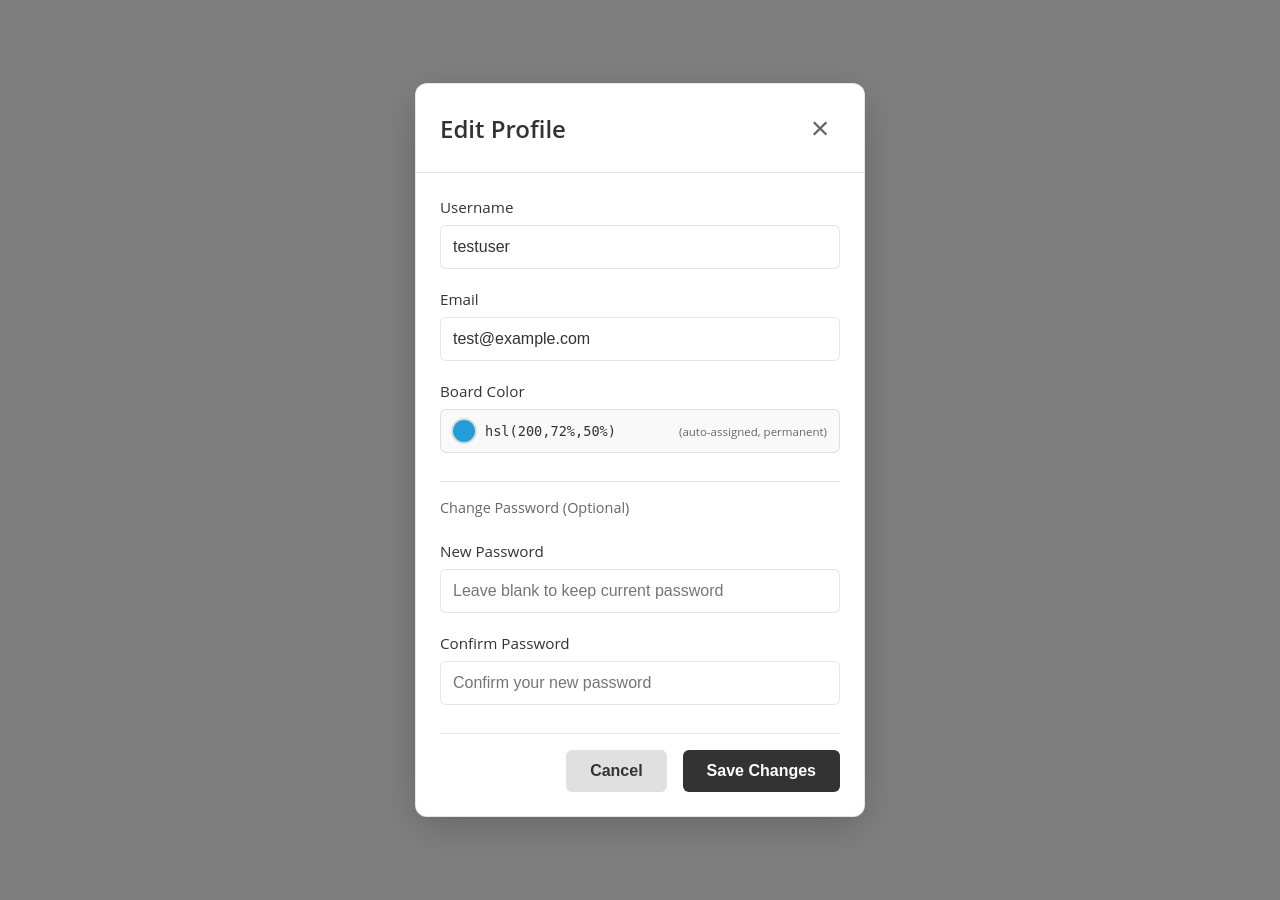
Test case: EditProfileModal › validates email format
Replace the text in the field labelled "Email" with "invalidemail" at (640, 339), box 440,317 -> 840,361
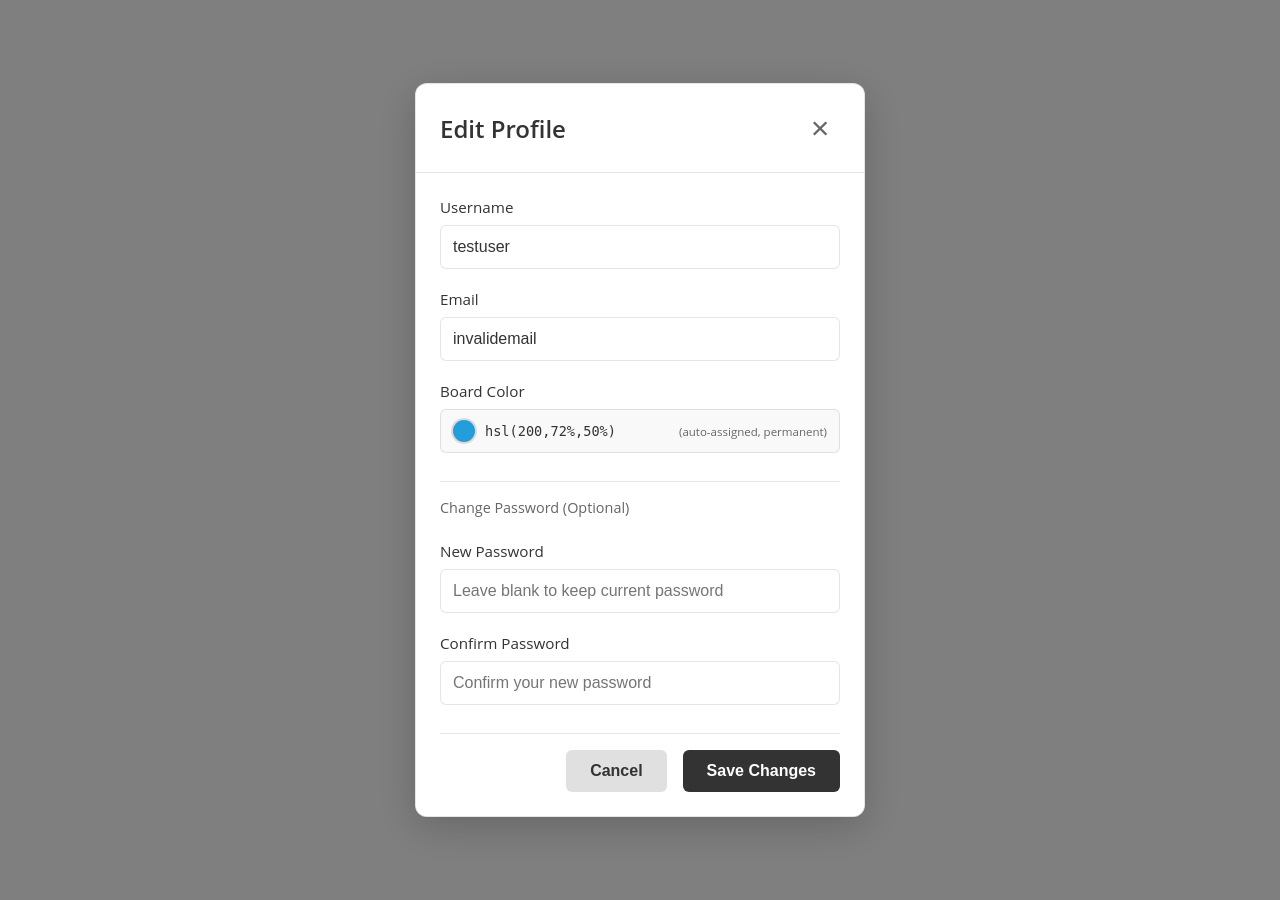
Click the button "Save Changes" at (761, 771), box 683,750 -> 840,792
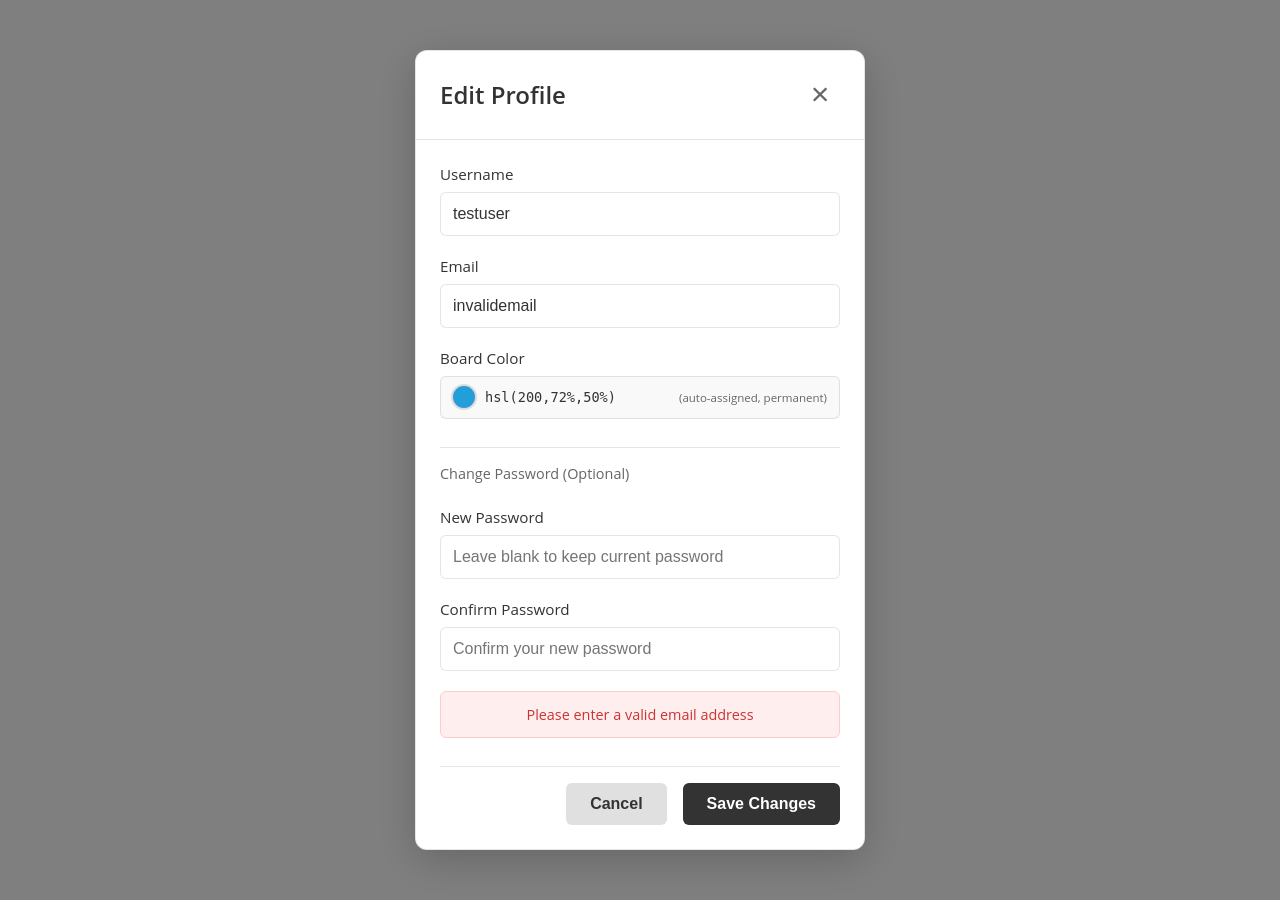
Check: the text "Please enter a valid email address" is shown, box 440,691 -> 840,738
